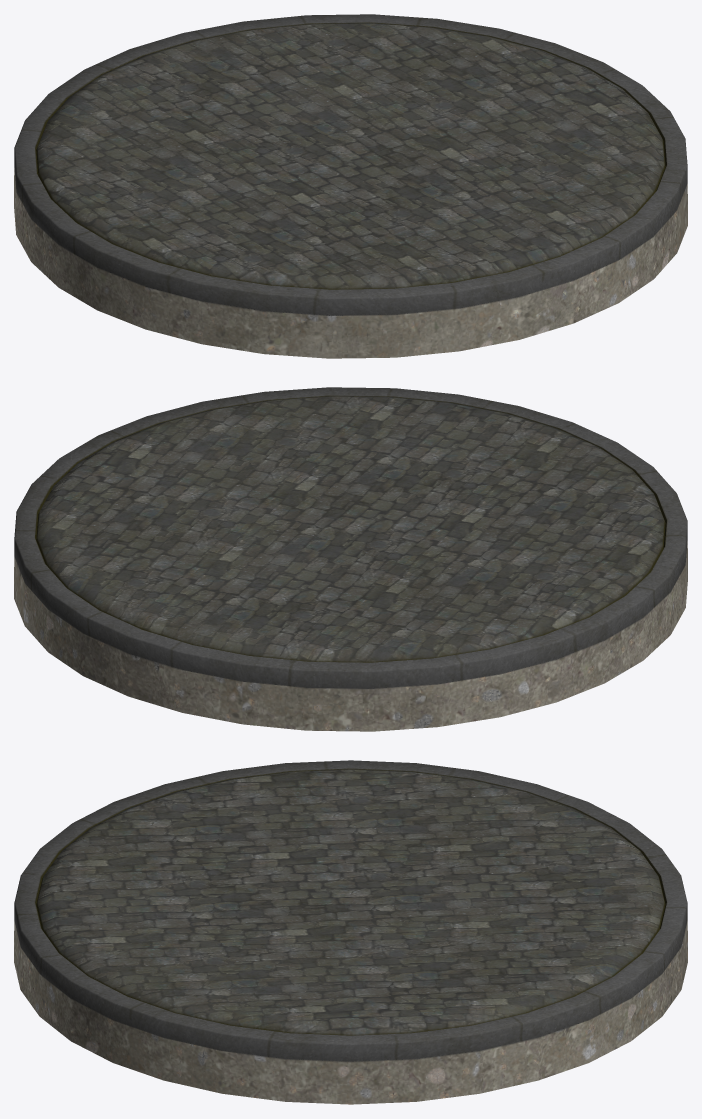
Rendered from mostrador.glb.
3 renders of one model, top to bottom at view 1: azimuth 30°, elevation 25°; view 2: azimuth 150°, elevation 25°; view 3: azimuth 270°, elevation 25°, orthographic.
Visible parts, largest first — view 1: Object_2; view 2: Object_2; view 3: Object_2.
Boxes of the visible parts, x1,y1,x2,y2 form: Object_2: (14,14,687,358); Object_2: (14,387,687,731); Object_2: (14,760,687,1104).
Size of the model in its own units: 3.4 by 0.362 by 3.4.
Materials: 1 (1 with a texture image).
